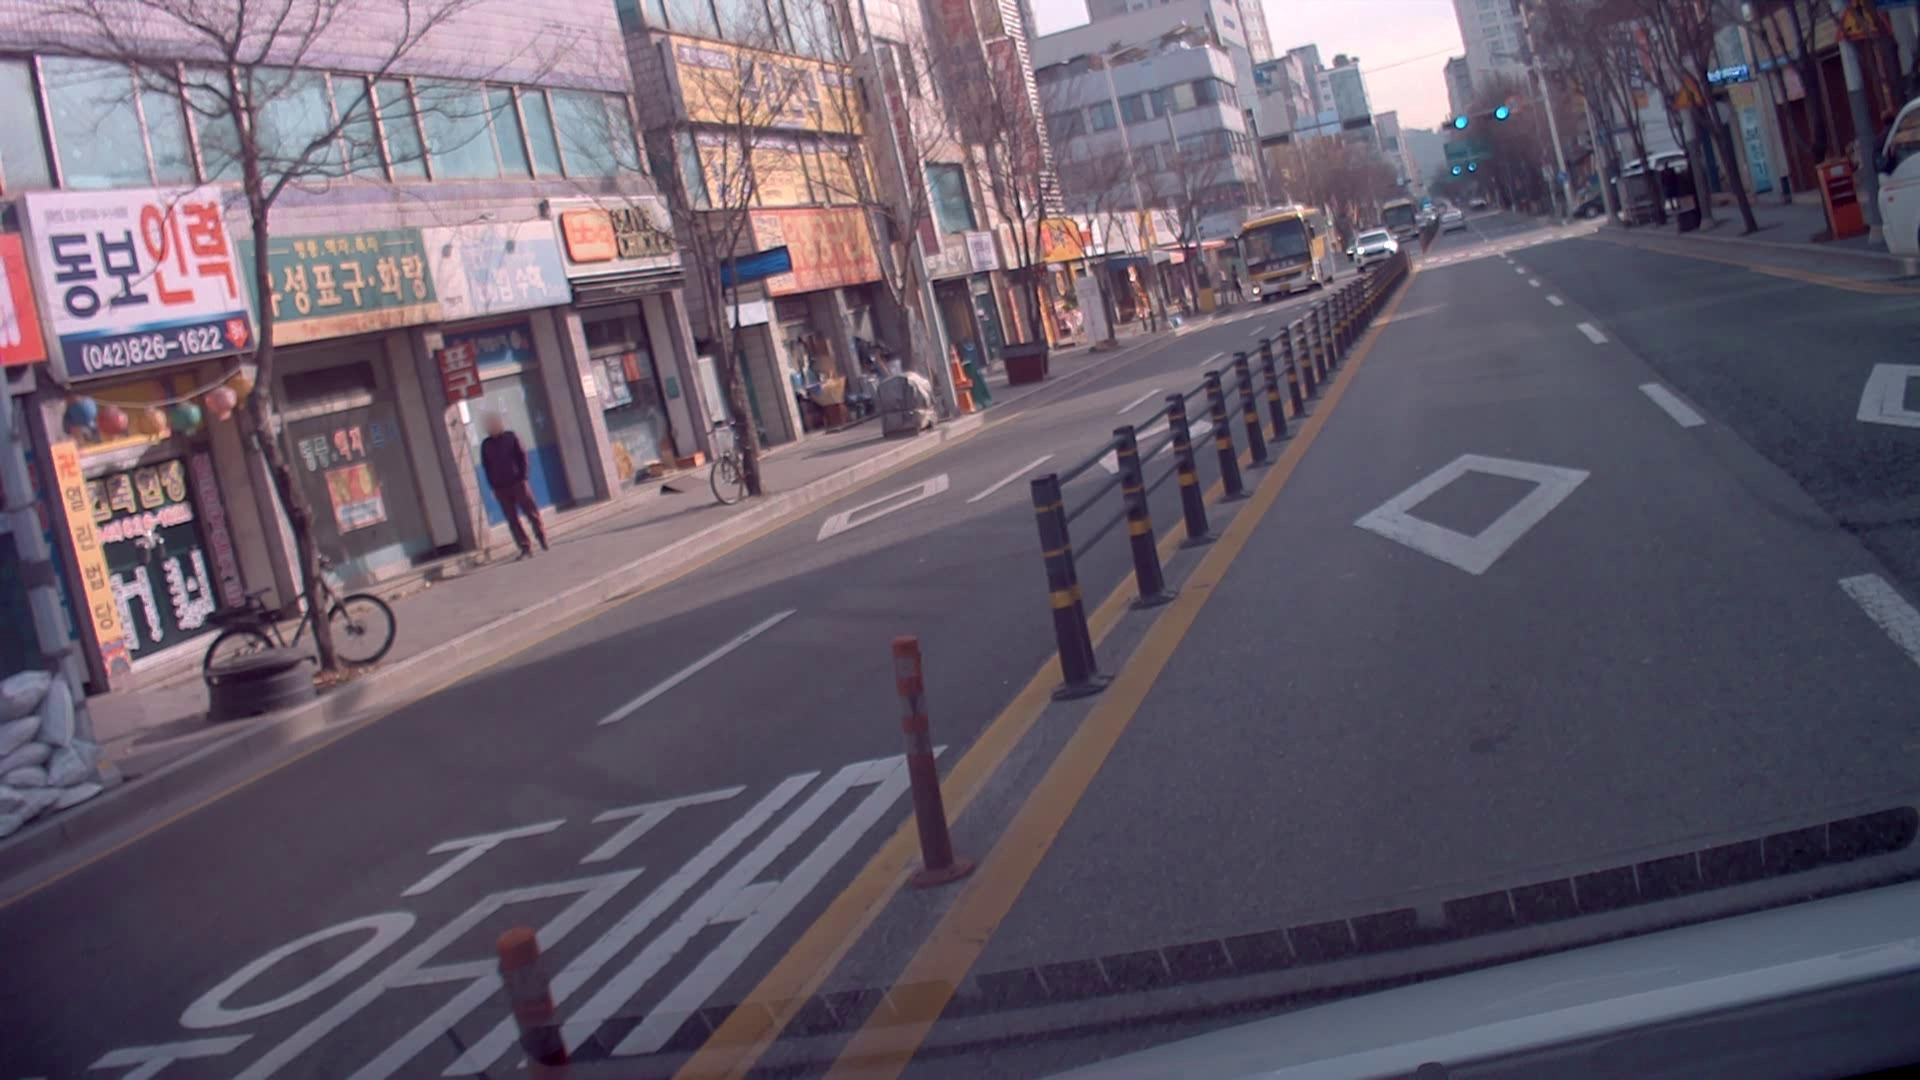trafficLight: (1433, 105, 1518, 131)
